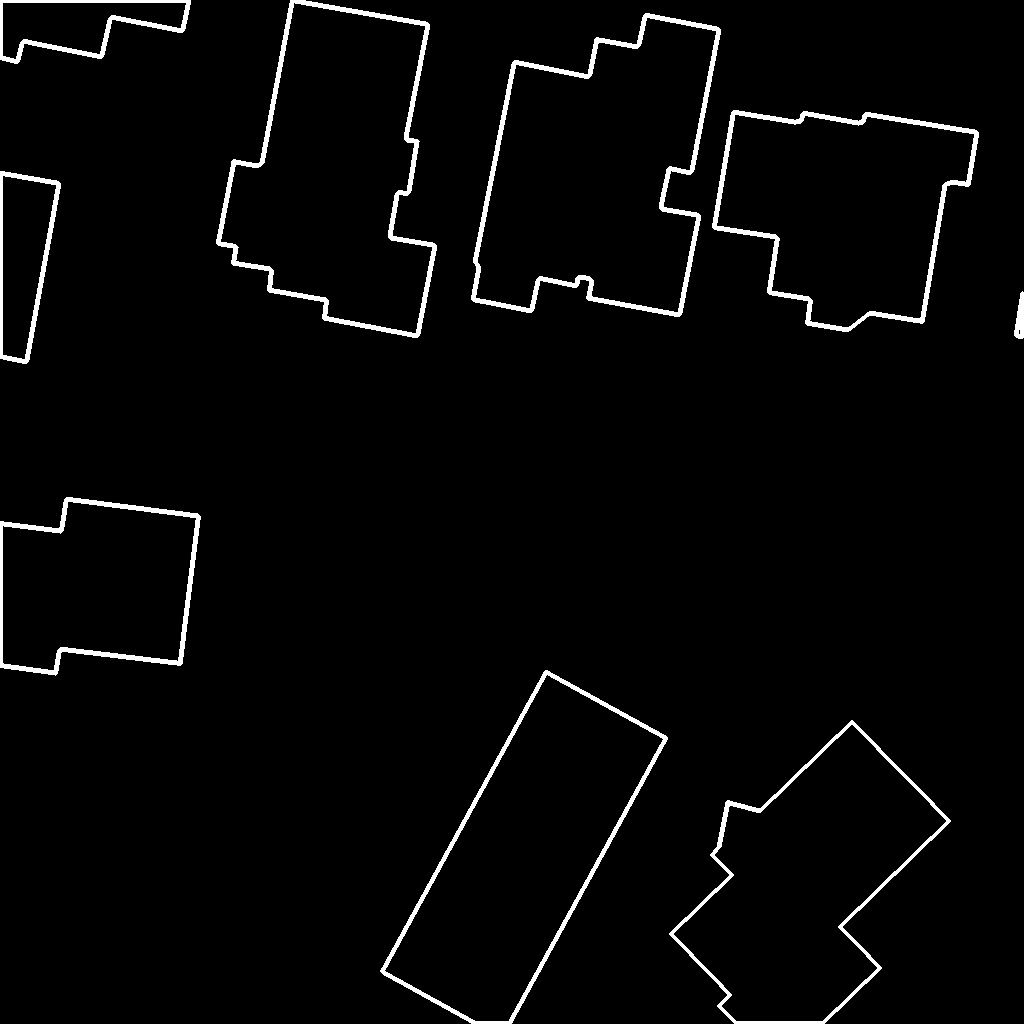building: (382, 672, 667, 1024), (671, 722, 950, 1024), (473, 15, 720, 316), (218, 0, 436, 337), (714, 112, 978, 331), (0, 499, 200, 674), (0, 0, 190, 63), (0, 173, 60, 363), (1016, 290, 1024, 338)
